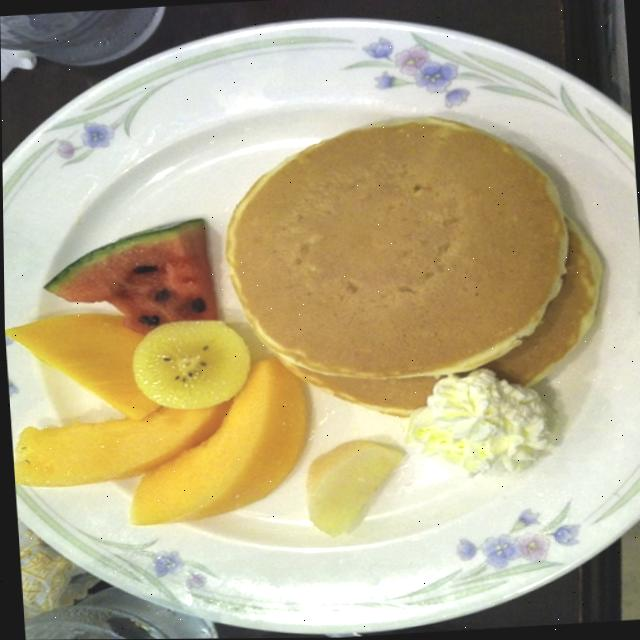蛋糕甜品: (197, 56, 628, 456)
